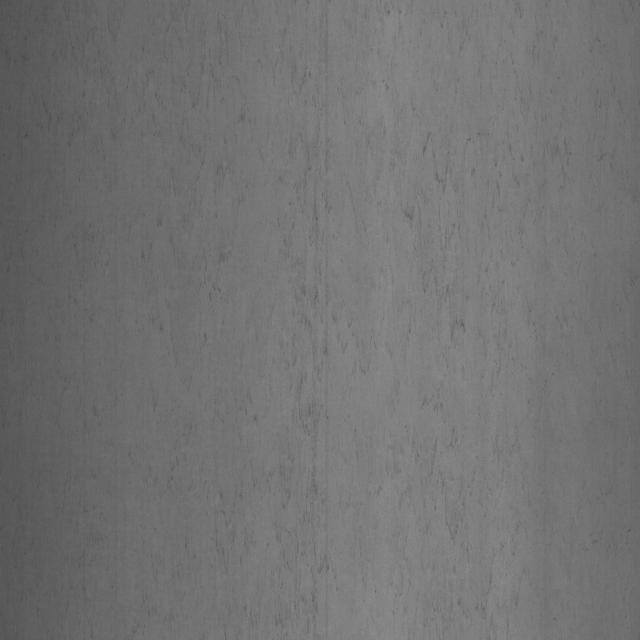inclusion: (371, 23, 620, 586), (171, 38, 361, 610)
